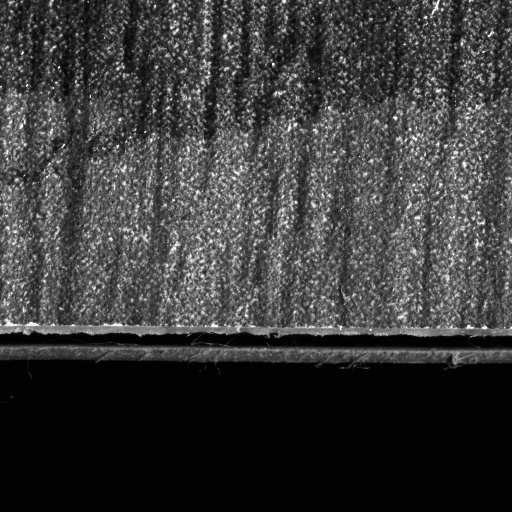kaijiao: (0, 323, 511, 369)
